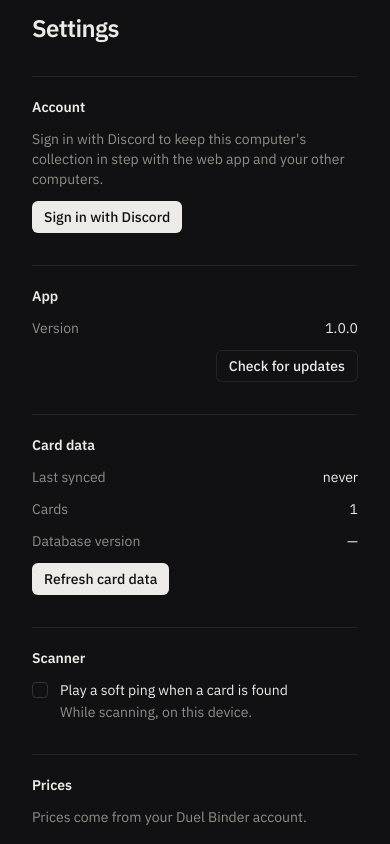
SettingsPage › check for updates shows status
Expected: the text "1.0.0" is shown, x1=325 y1=318 x2=358 y2=338
Click the button "Check for updates" at (287, 366), box x1=216 y1=350 x2=358 y2=382
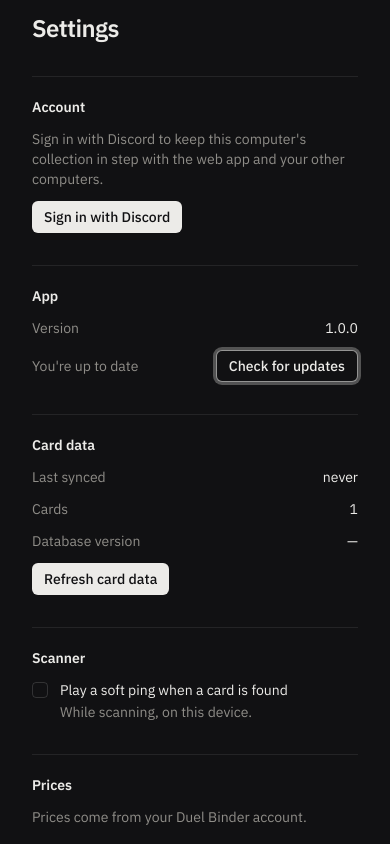
Now the text "You're up to date" is shown, box x1=32 y1=356 x2=138 y2=376
